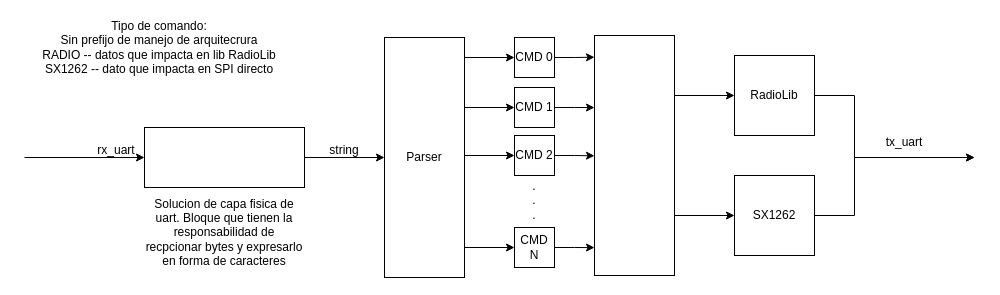
Image size: 1000x295. Some labels were removed from this diagram. Here are the shapes that lost their labels. From the top down, the box of each, then its label:
(144, 126, 304, 188): UART
(594, 34, 674, 276): Switch
